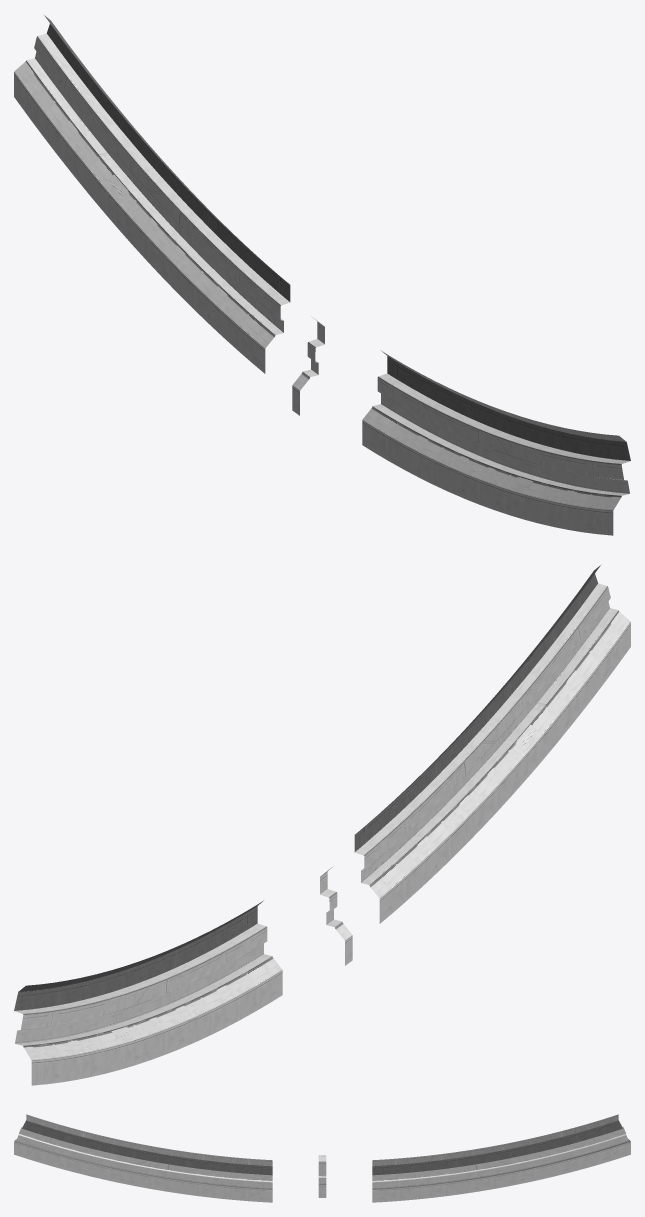
File: PRS_WallBottom01.FBX
3 views of the same model, one above another, from view 1: azimuth 30°, elevation 25°; view 2: azimuth 150°, elevation 25°; view 3: azimuth 270°, elevation 25° (orthographic). The views are drawn at different scales.
Parts seen in each view (by area): view 1: PRS_WallBottom01; view 2: PRS_WallBottom01; view 3: PRS_WallBottom01.
Part boxes in pixels (x1,y1,x2,y2): PRS_WallBottom01: [14, 15, 630, 535]; PRS_WallBottom01: [14, 565, 630, 1085]; PRS_WallBottom01: [14, 1114, 630, 1202].
Size of the model in its own units: 96.03 by 388 by 2337.
